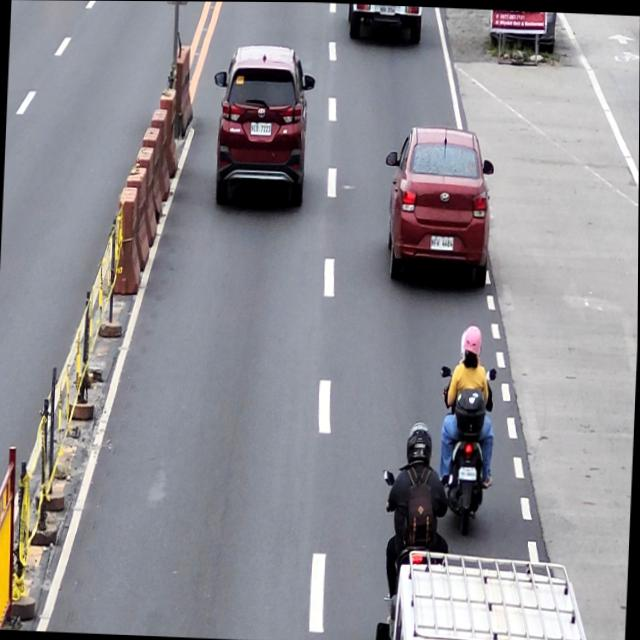Car: (381, 124, 496, 291), (210, 39, 317, 204)
License-Plate: (429, 234, 455, 251), (458, 463, 478, 481), (249, 121, 273, 135)
Motorcycle: (434, 360, 496, 537)
